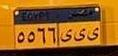5: (16, 31, 25, 45), (27, 32, 35, 45)
6: (47, 27, 56, 44), (36, 27, 45, 44)
yaa: (86, 27, 100, 42), (74, 27, 86, 42), (59, 30, 72, 43)
